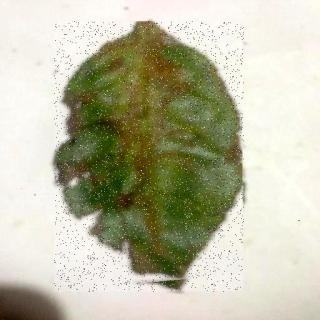Red Leaf Spot: (56, 23, 245, 293)
